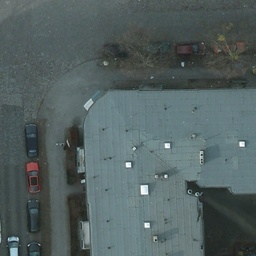car: (135, 38, 170, 58), (101, 40, 131, 61), (209, 39, 246, 54), (24, 122, 40, 155), (25, 161, 40, 195), (176, 39, 205, 56), (26, 199, 40, 233), (0, 209, 1, 245)
